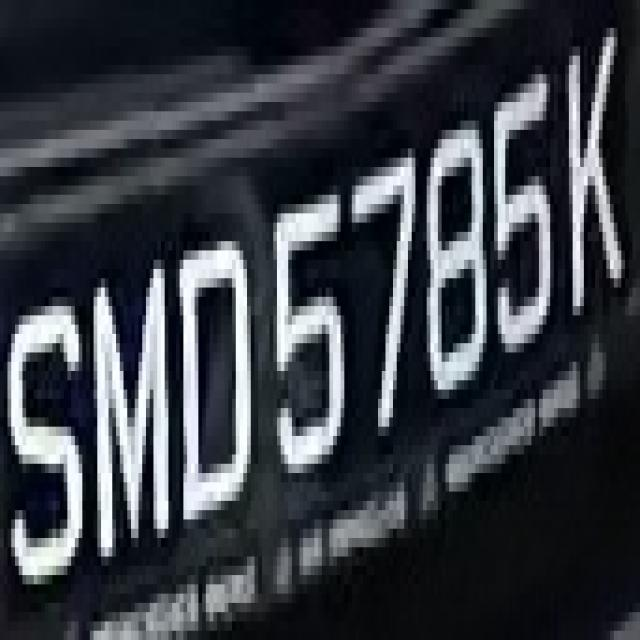5: (273, 176, 356, 492), (482, 56, 558, 371)
7: (344, 130, 423, 473)
8: (415, 102, 498, 399)
D: (176, 204, 254, 547)
K: (554, 9, 640, 343)
M: (90, 260, 172, 547)
S: (0, 241, 86, 603)
